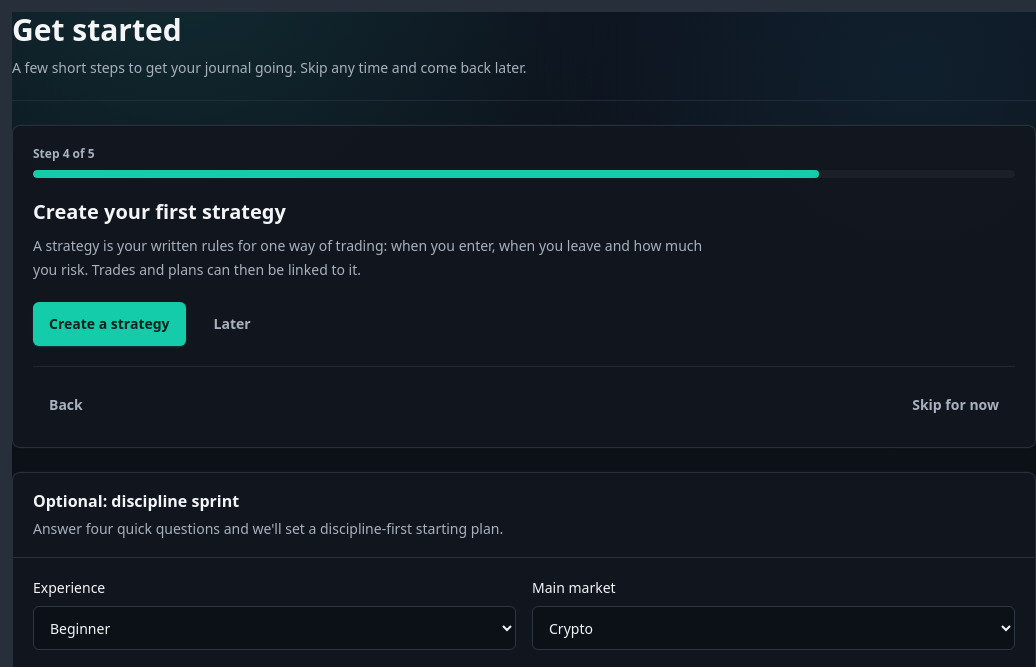
Test: the strategy step › opens the strategies page, or moves on with 'Later'
The image size is (1036, 667).
Click the button "Later".
click(232, 324)  # box [198, 302, 267, 346]
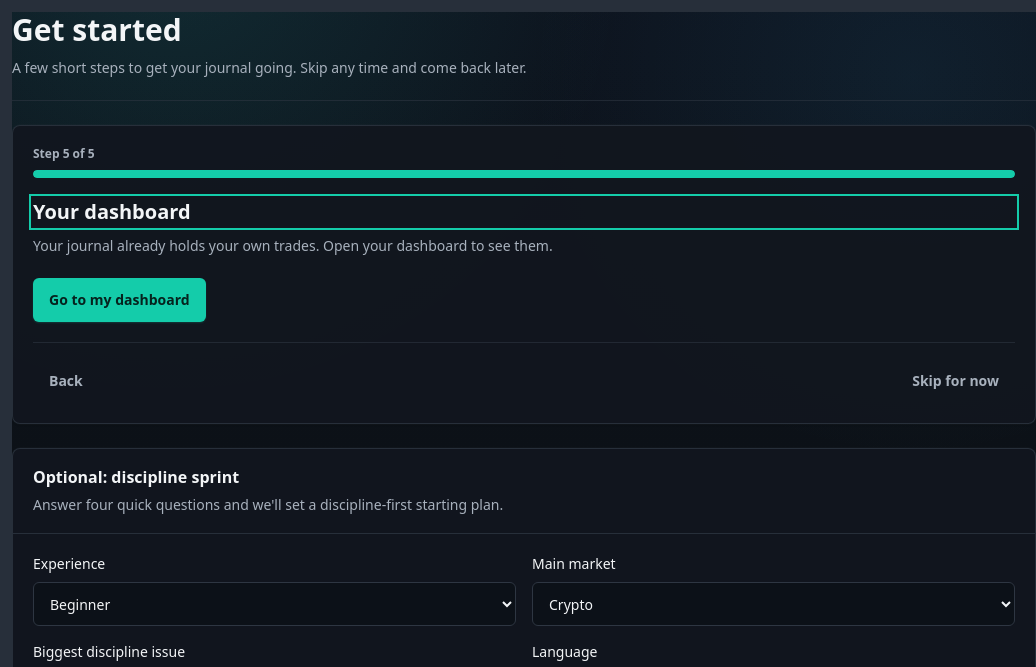
Expected: the heading "Your dashboard" is shown, [33, 198, 191, 225]
